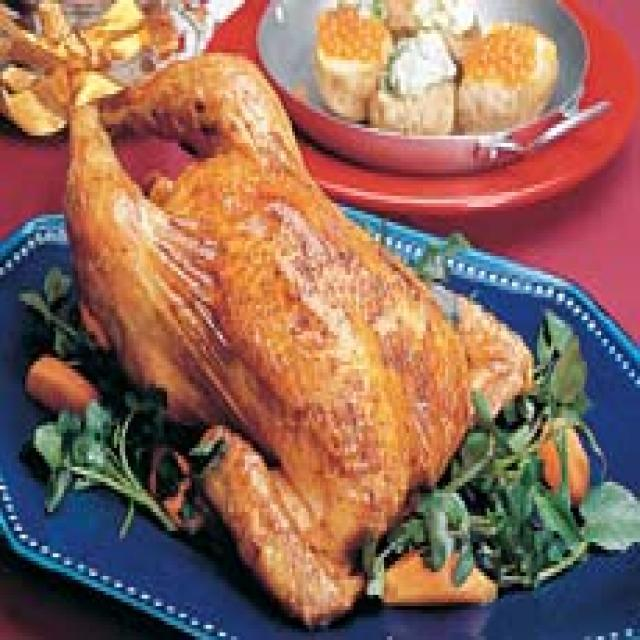Chicken roast: (45, 64, 537, 610)
